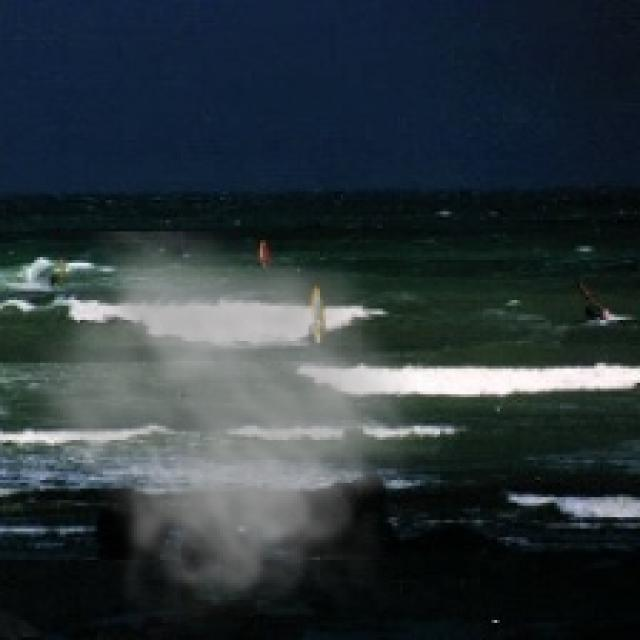Smoke: (17, 232, 440, 637)
